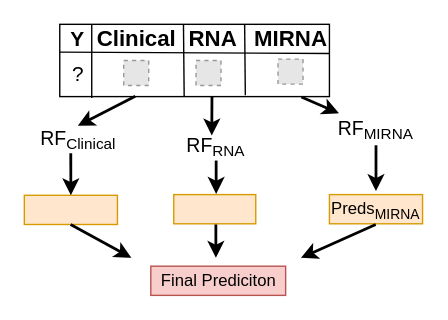
Some shapes in this 448 by 320 pixel diagram are drawn without their labels. Grey dashed boxes stand in for pictures. The box of each missing label's shape, as (x1, y1, x2, y2) in pixels:
Preds clinical: (23, 194, 117, 224)
Preds RNA: (172, 193, 256, 224)
